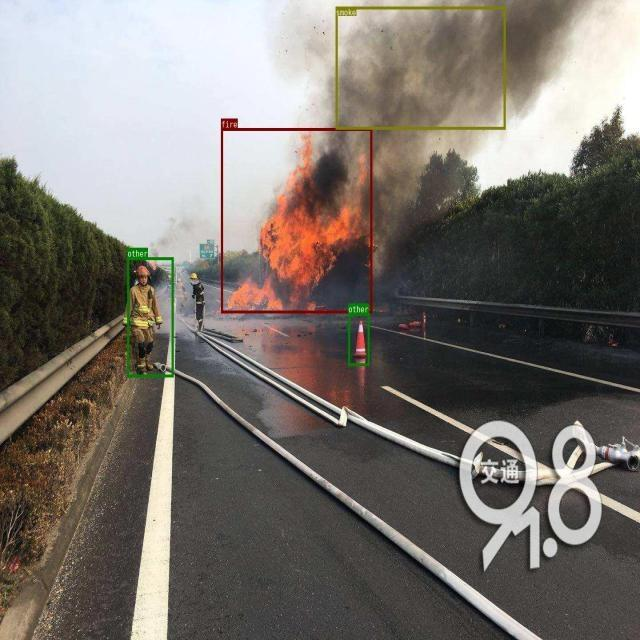fire: (221, 127, 372, 313)
smoke: (335, 6, 505, 129)
